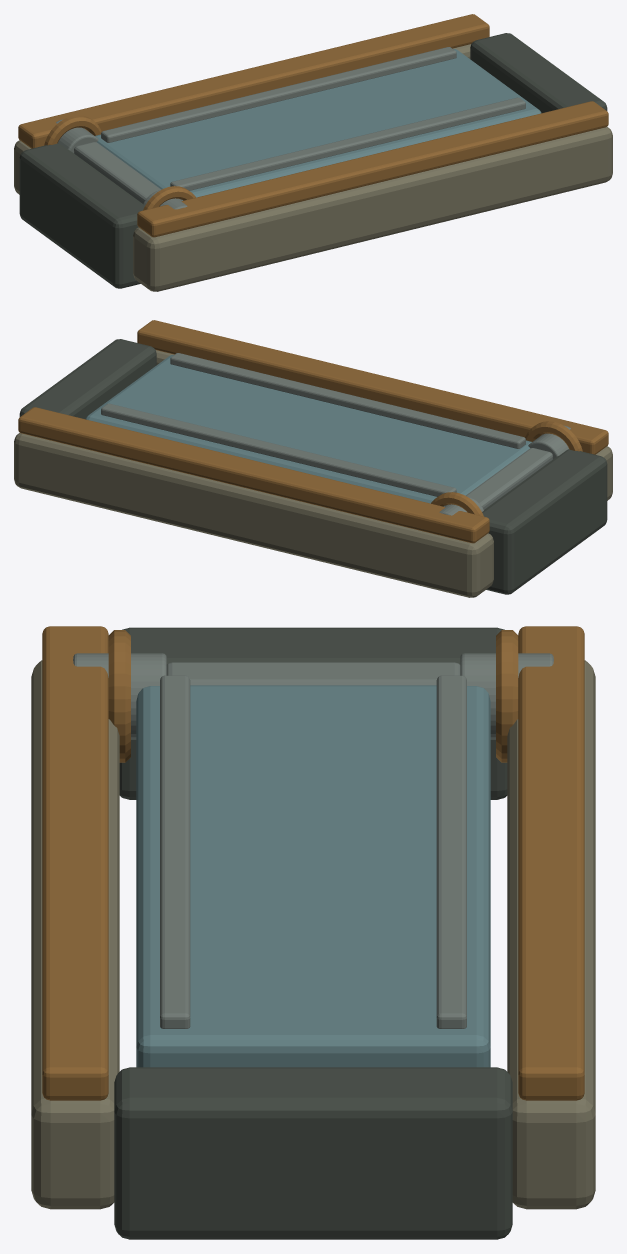
File: HINGED_FLAP.hi.glb
The picture shows the model from 3 angles, top to bottom: view 1: azimuth 30°, elevation 25°; view 2: azimuth 150°, elevation 25°; view 3: azimuth 270°, elevation 25°; orthographic projection. The views are drawn at different scales.
Visible parts, largest first — view 1: Body_Mesh, FlapPivot_Mesh; view 2: Body_Mesh, FlapPivot_Mesh; view 3: Body_Mesh, FlapPivot_Mesh.
Boxes of the visible parts, x1,y1,x2,y2 form: Body_Mesh: [14, 14, 612, 291]; FlapPivot_Mesh: [74, 47, 541, 203]; Body_Mesh: [14, 320, 612, 597]; FlapPivot_Mesh: [85, 353, 552, 509]; Body_Mesh: [31, 626, 595, 1239]; FlapPivot_Mesh: [136, 662, 490, 1067].
Bounding box in the file's own units: 2.06 × 0.36 × 1.02.
